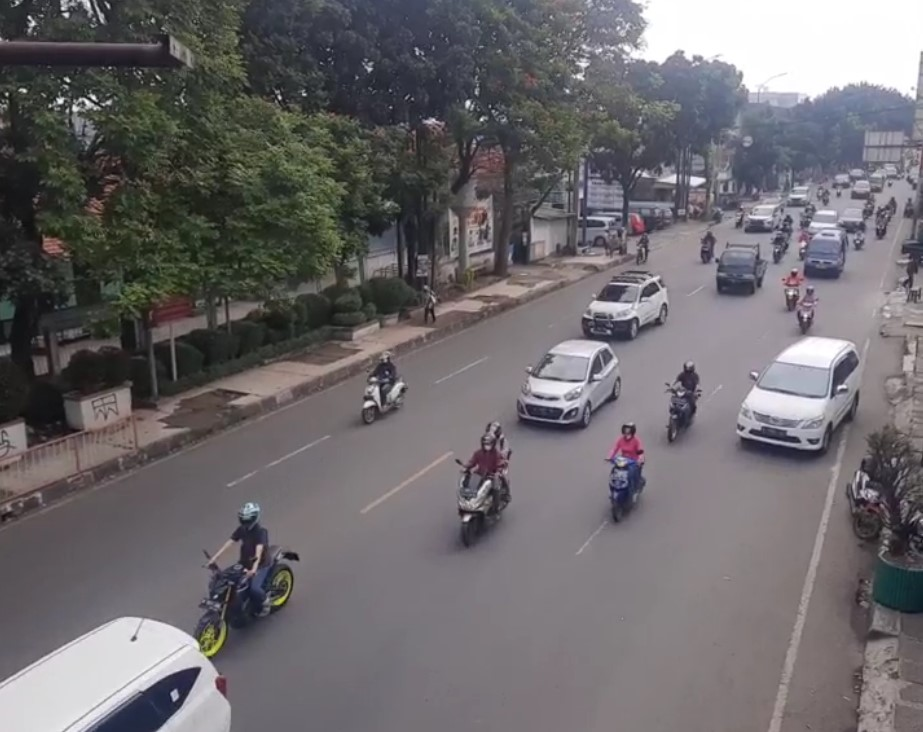motor: (177, 504, 298, 654), (442, 422, 518, 561), (603, 420, 658, 530), (355, 348, 410, 421), (661, 361, 706, 443)
